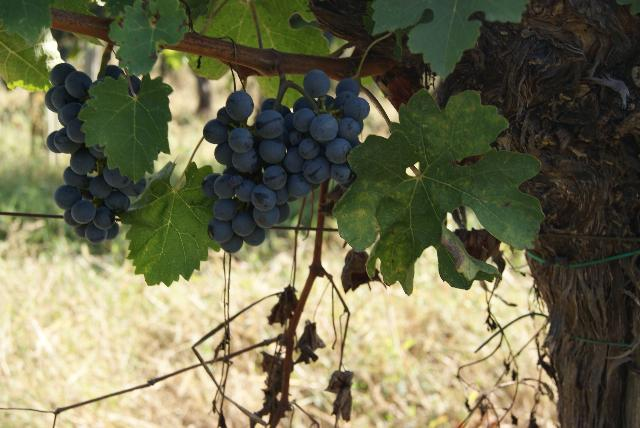grapes: (201, 70, 370, 251), (45, 64, 146, 244)
